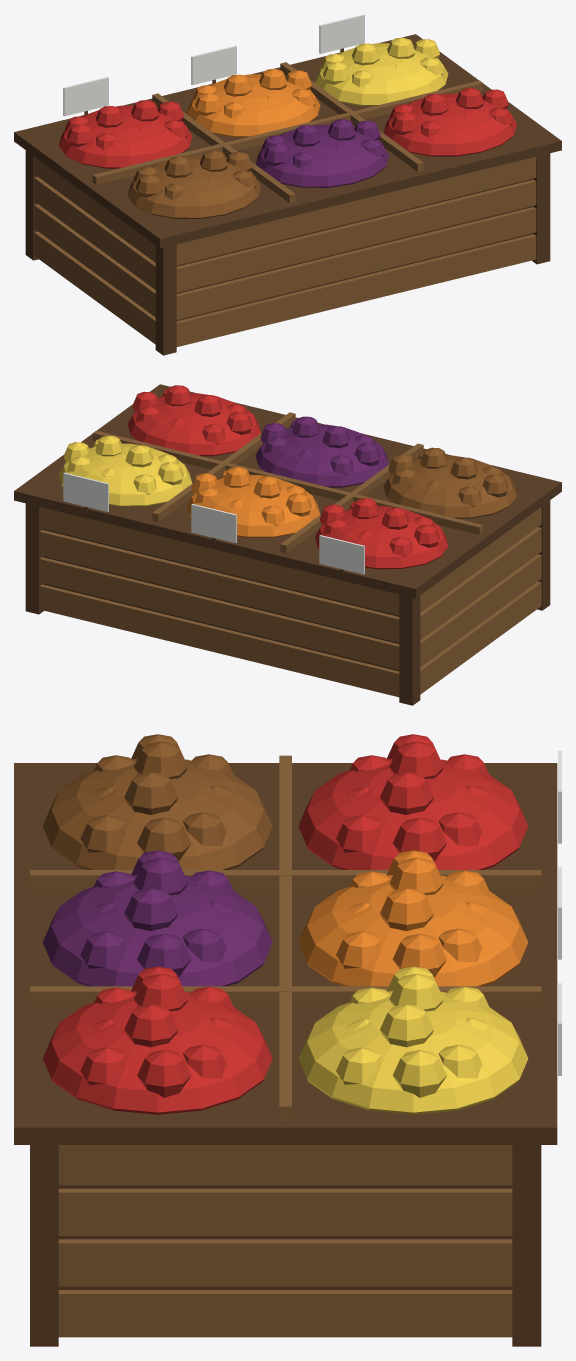
File: produce_table.glb
3 views of the same model, one above another, from view 1: azimuth 30°, elevation 25°; view 2: azimuth 150°, elevation 25°; view 3: azimuth 270°, elevation 25° (orthographic). The views are drawn at different scales.
Visible parts, largest first — view 1: wood_crate, wood_dark, produce_red, produce_brown, produce_purple, produce_orange, produce_yellow, card_white; view 2: wood_crate, wood_dark, produce_red, produce_brown, produce_purple, produce_yellow, produce_orange, card_white; view 3: wood_crate, wood_dark, produce_red, produce_yellow, produce_orange, produce_purple, produce_brown, card_white.
Part boxes in pixels (x1,y1,x2,y2): wood_crate: [34, 62, 536, 346]; wood_dark: [14, 34, 561, 355]; produce_red: [59, 88, 516, 168]; produce_brown: [127, 150, 260, 218]; produce_purple: [255, 119, 388, 187]; produce_orange: [187, 69, 320, 137]; produce_yellow: [315, 37, 448, 106]; card_white: [63, 14, 364, 116]; wood_crate: [39, 412, 541, 697]; wood_dark: [14, 384, 561, 705]; produce_red: [127, 385, 448, 569]; produce_brown: [383, 447, 516, 518]; produce_purple: [255, 416, 388, 487]; produce_yellow: [59, 435, 192, 506]; produce_orange: [187, 467, 320, 537]; card_white: [63, 472, 364, 574]; wood_crate: [30, 755, 541, 1337]; wood_dark: [14, 763, 557, 1346]; produce_red: [43, 734, 528, 1114]; produce_yellow: [298, 966, 528, 1114]; produce_orange: [298, 850, 528, 986]; produce_purple: [43, 850, 272, 986]; produce_brown: [43, 734, 272, 869]; card_white: [558, 751, 561, 1075].
Bounding box in the file's own units: 2.7 × 1.03 × 1.72.
